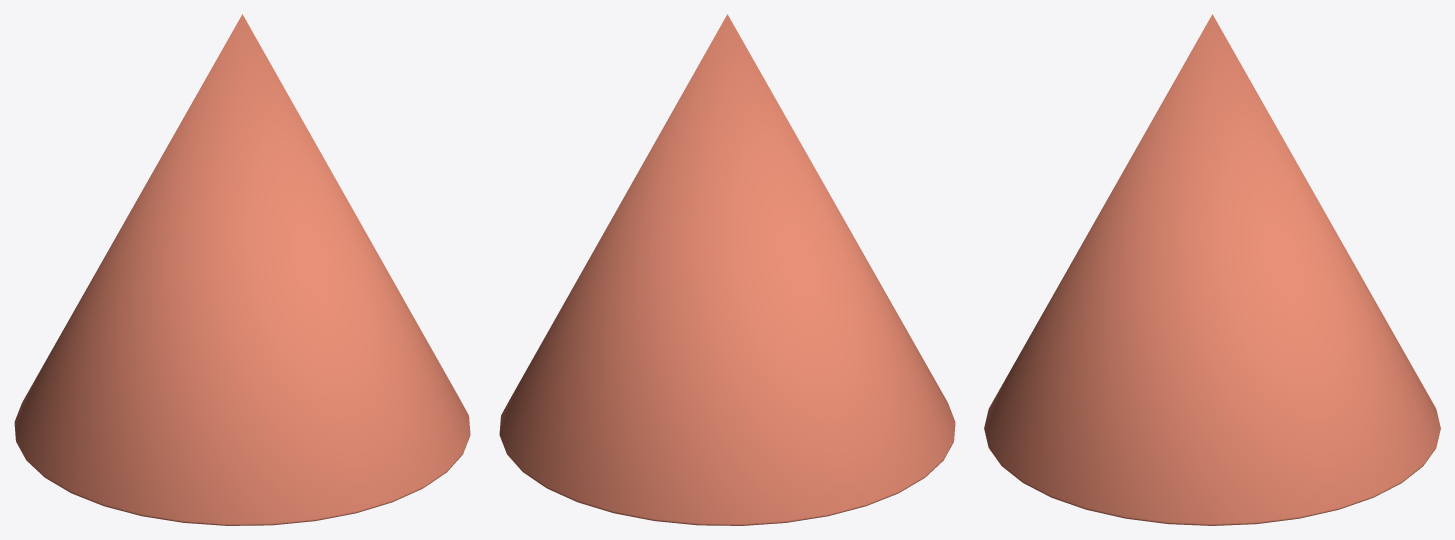
3 views of the same model, side by side, from view 1: azimuth 30°, elevation 25°; view 2: azimuth 150°, elevation 25°; view 3: azimuth 270°, elevation 25° (orthographic).
Parts seen in each view (by area): view 1: Cone; view 2: Cone; view 3: Cone.
Part boxes in pixels (<box>): Cone: <box>14,14,470,525</box>; Cone: <box>499,14,955,525</box>; Cone: <box>984,14,1440,525</box>.
Size of the model in its own units: 199 by 200 by 199.
